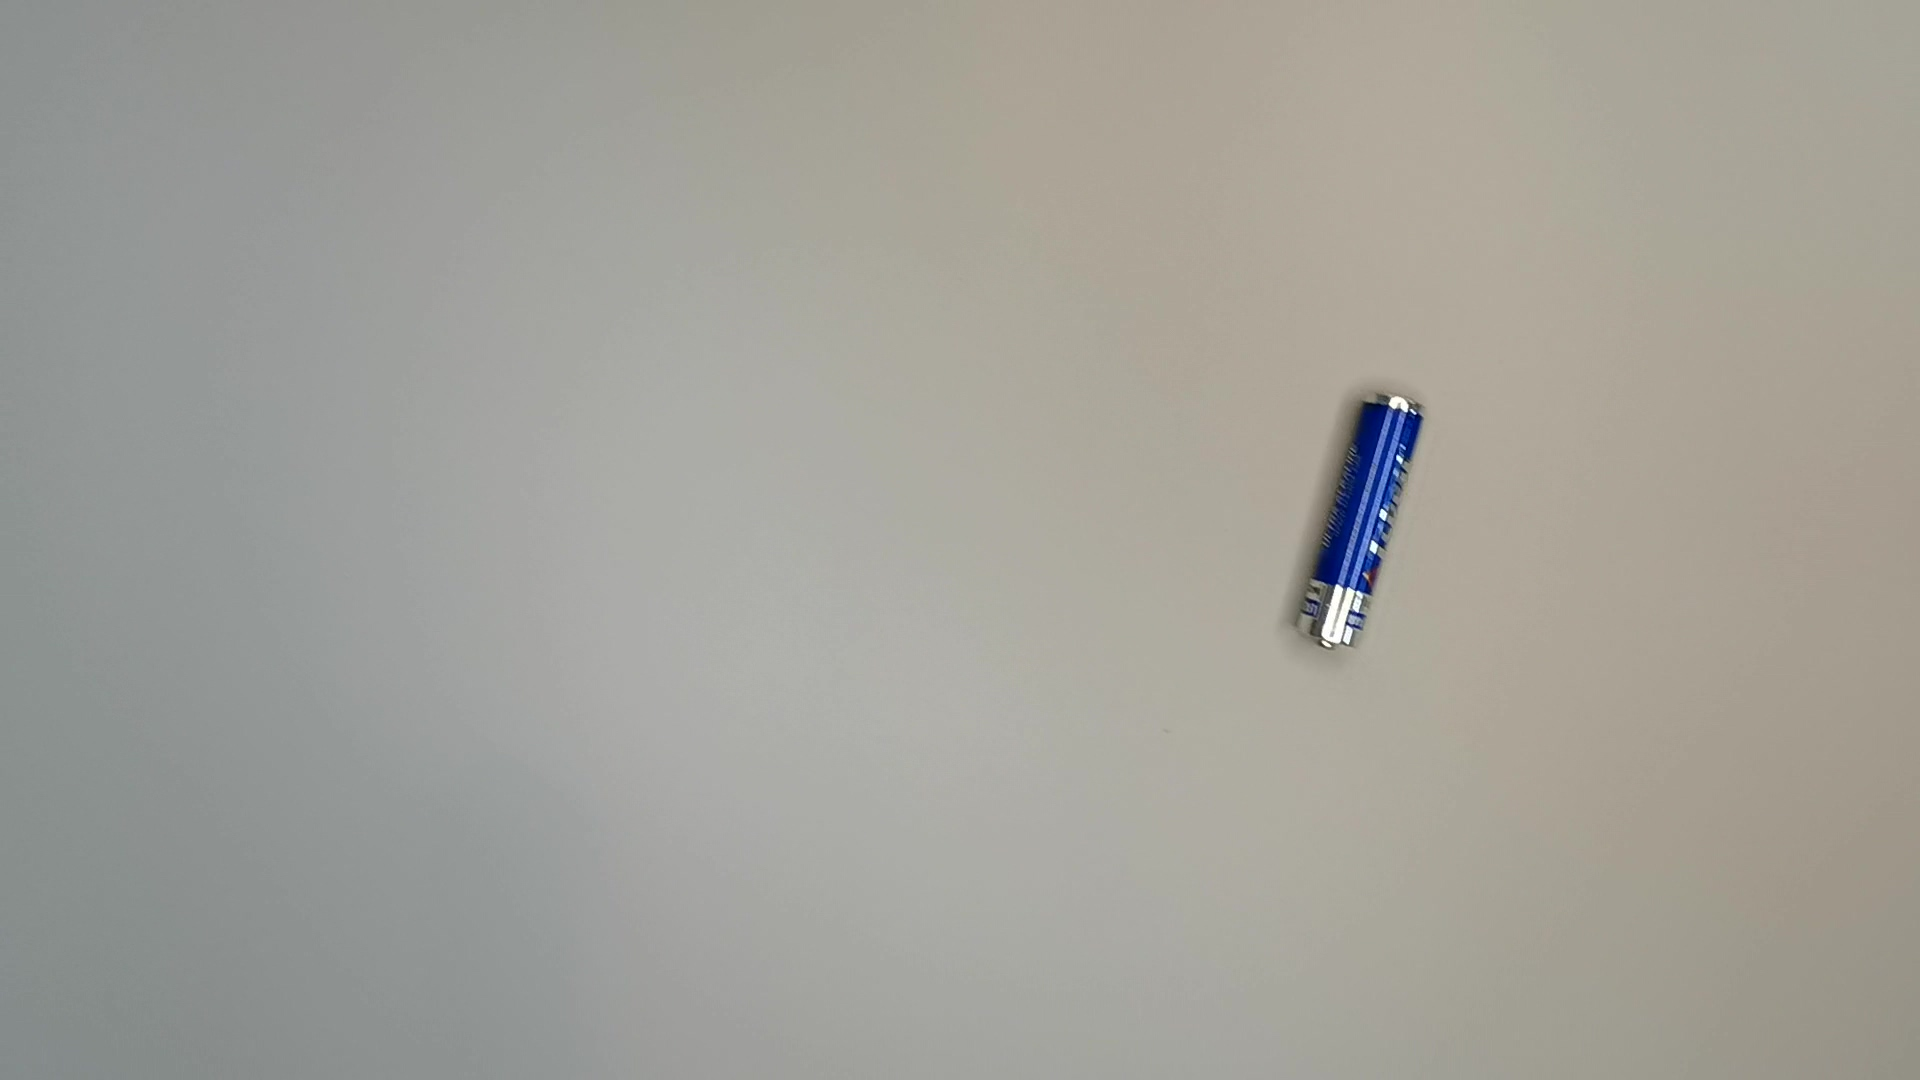battery: (1291, 386, 1428, 658)
